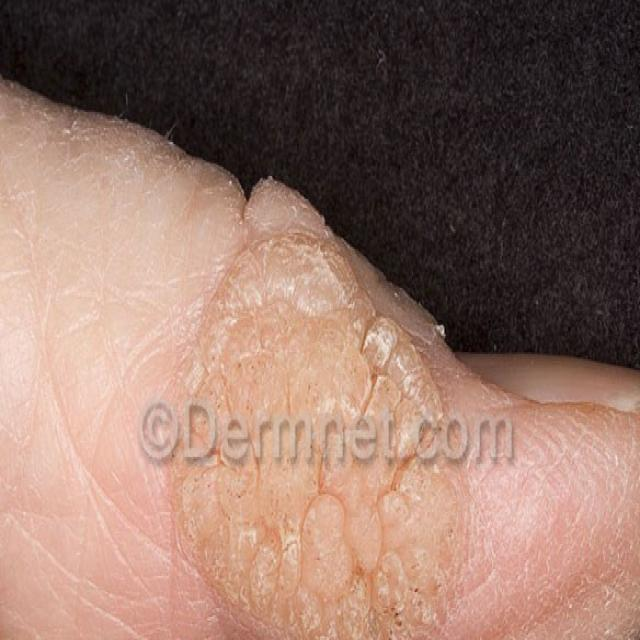Warts: (169, 169, 462, 640)
